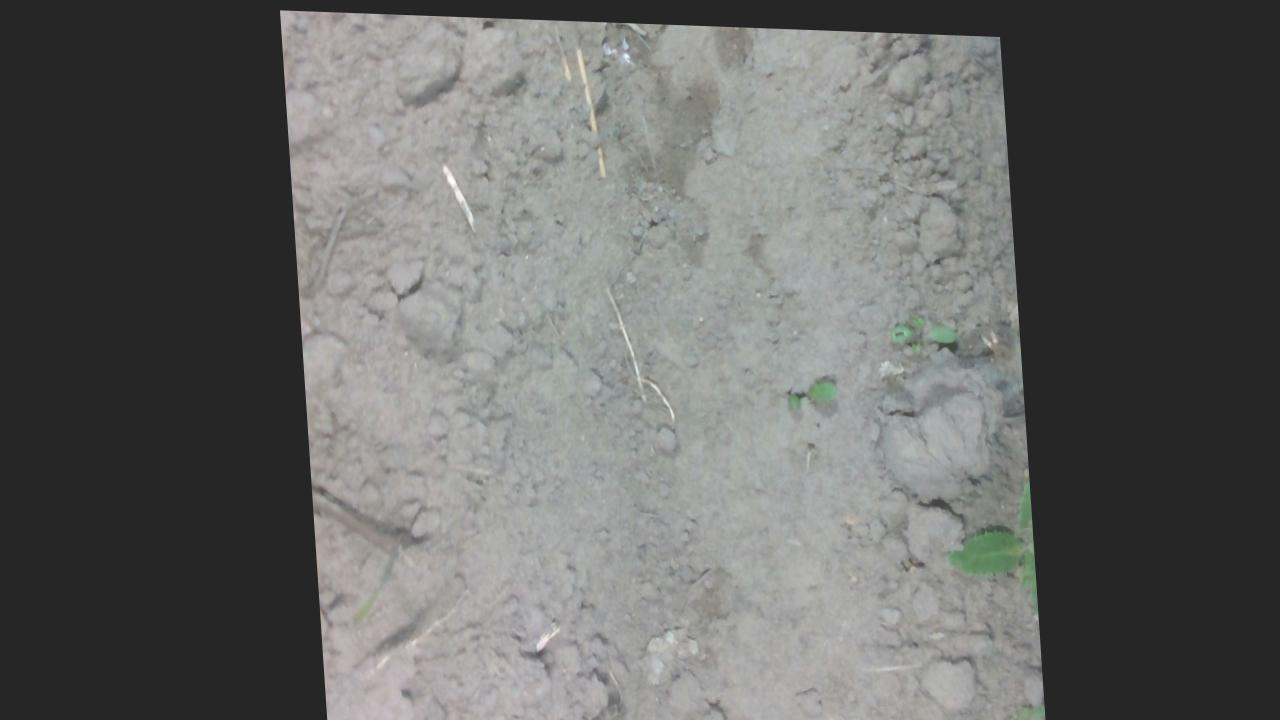weed: (777, 370, 836, 409)
